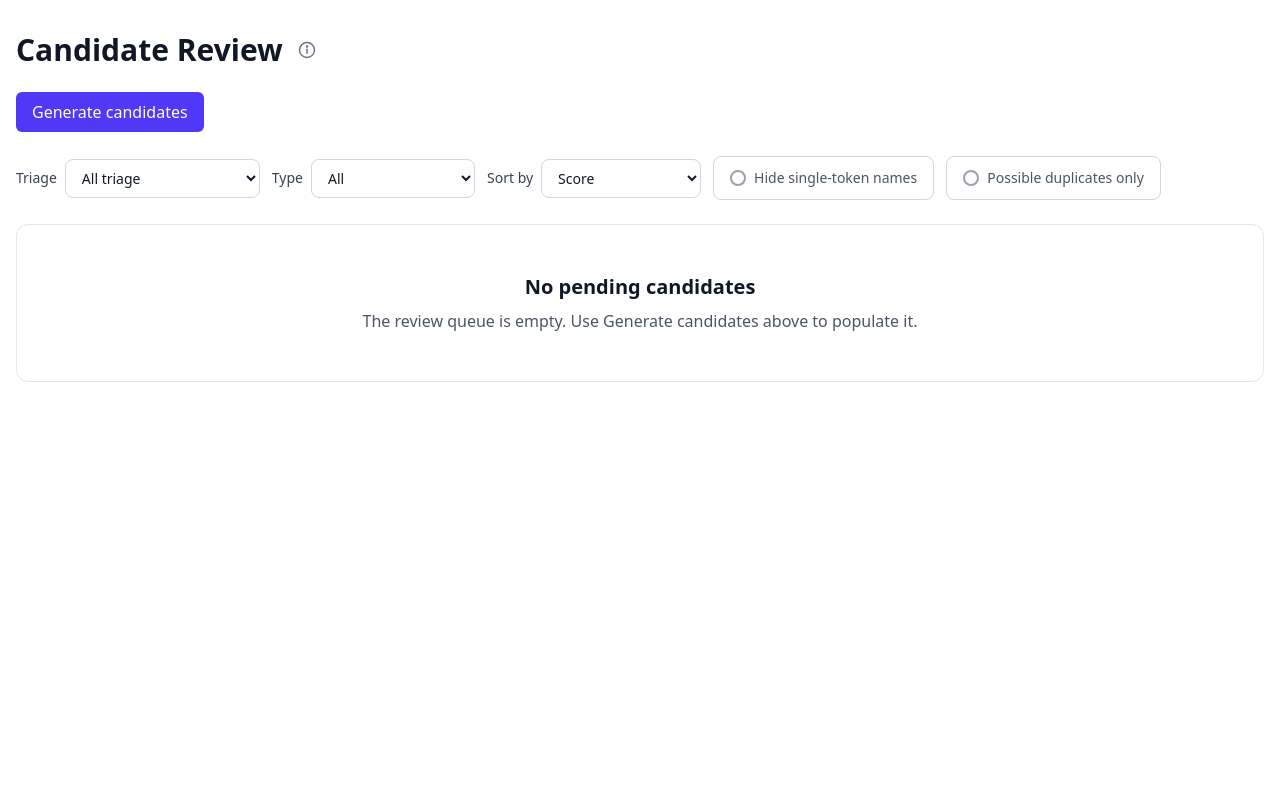
Test: Candidates terms explainer › closes on outside click
The image size is (1280, 800).
Click the button named "What do these terms mean?" at [307, 50], box [291,34,323,66]
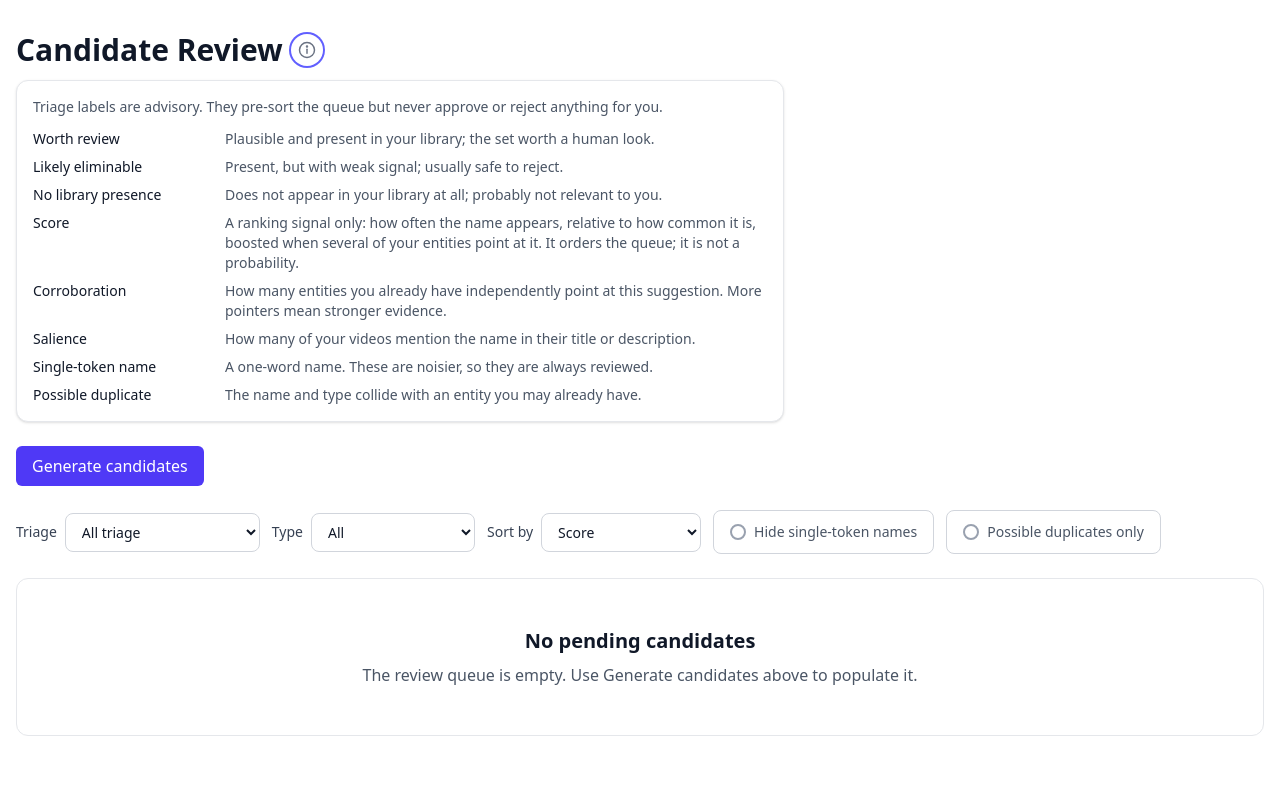
Click the element that starts with "Skip to content" at [640, 384], box [0,0,1279,768]
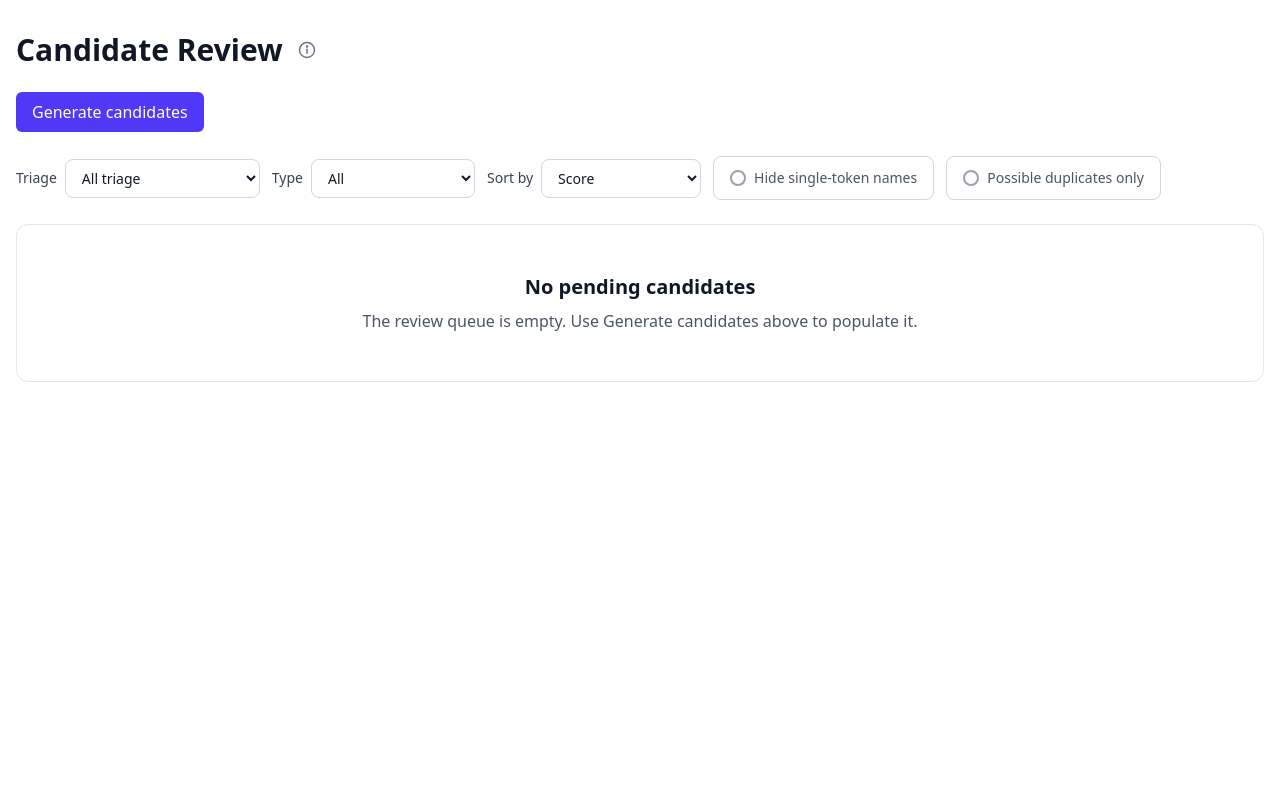
Expected: the button named "What do these terms mean?" is collapsed, [291,34,323,66]
